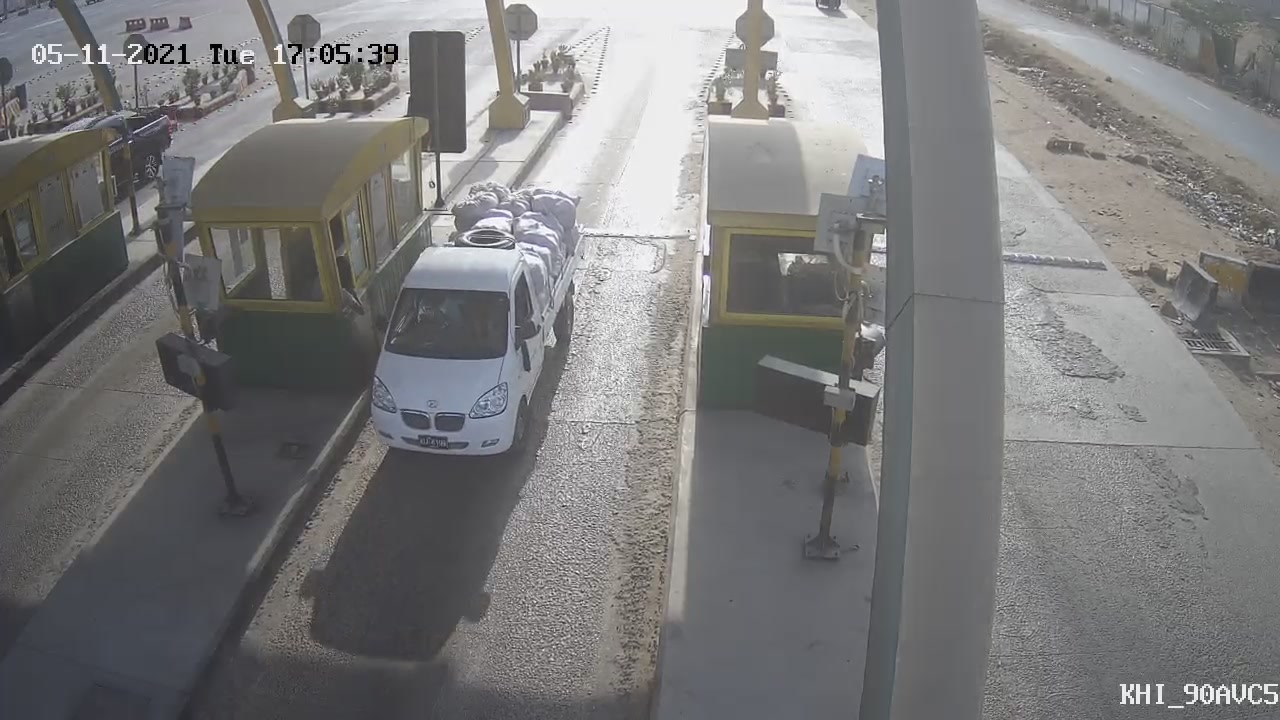F2: (348, 160, 603, 481)
